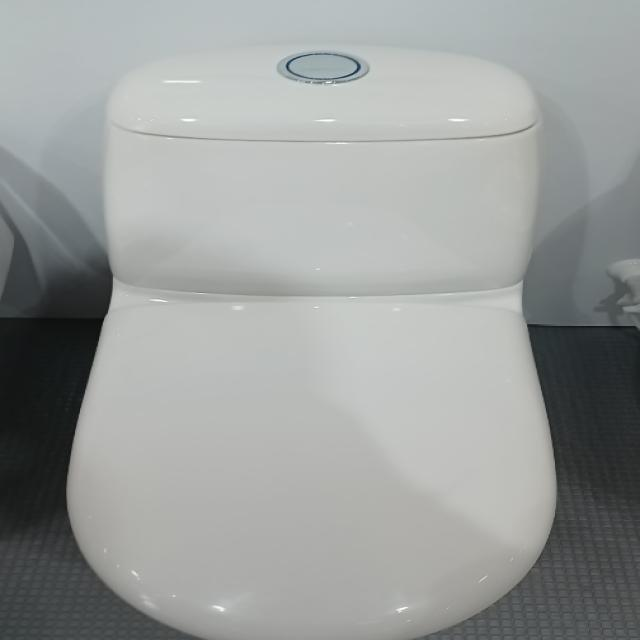toilet: (65, 42, 557, 639)
